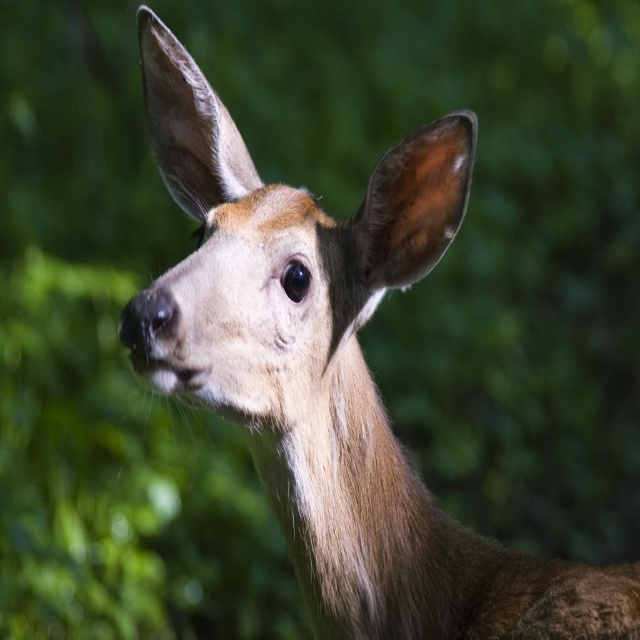Deer: (118, 1, 640, 639)
